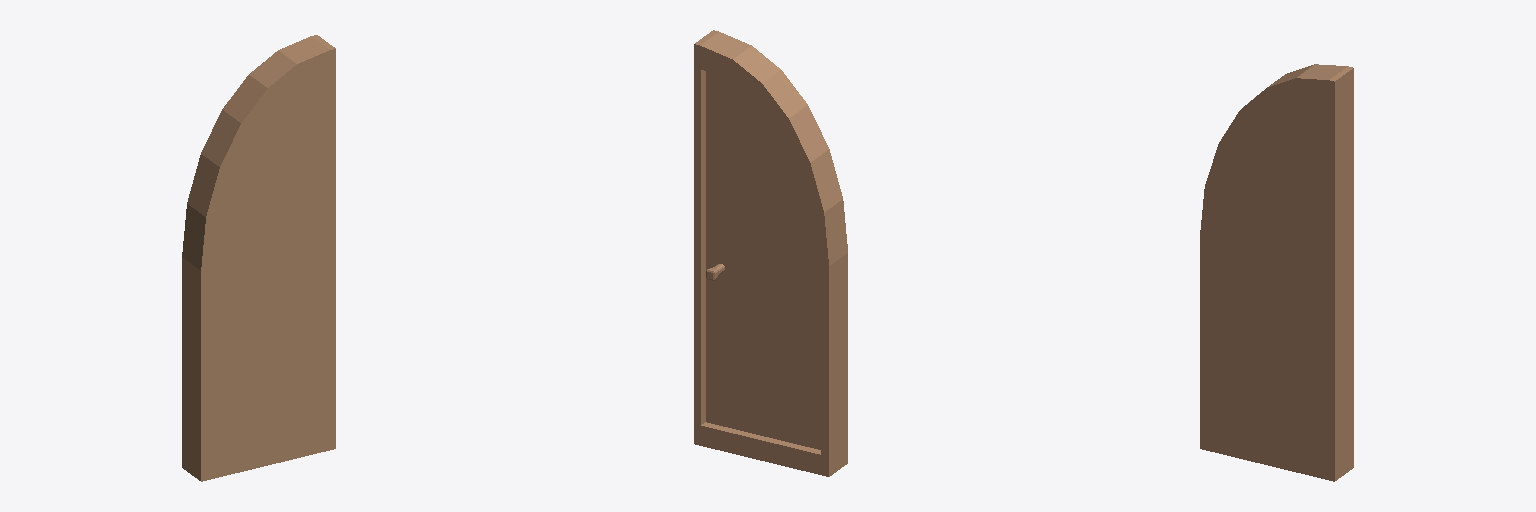
The picture shows the model from 3 angles: view 1: azimuth 30°, elevation 25°; view 2: azimuth 150°, elevation 25°; view 3: azimuth 330°, elevation 25°; orthographic projection.
Parts seen in each view (by area): view 1: 立方体.003; view 2: 立方体.003; view 3: 立方体.003.
Boxes of the visible parts, x1,y1,x2,y2 form: 立方体.003: [182, 35, 335, 481]; 立方体.003: [694, 30, 847, 476]; 立方体.003: [1200, 64, 1353, 481].
Size of the model in its own units: 0.6021 by 1.7 by 0.196.
1 materials, 1 textured.